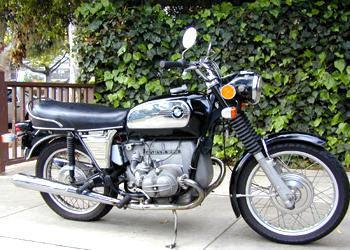motorcycle: (1, 26, 350, 250)
